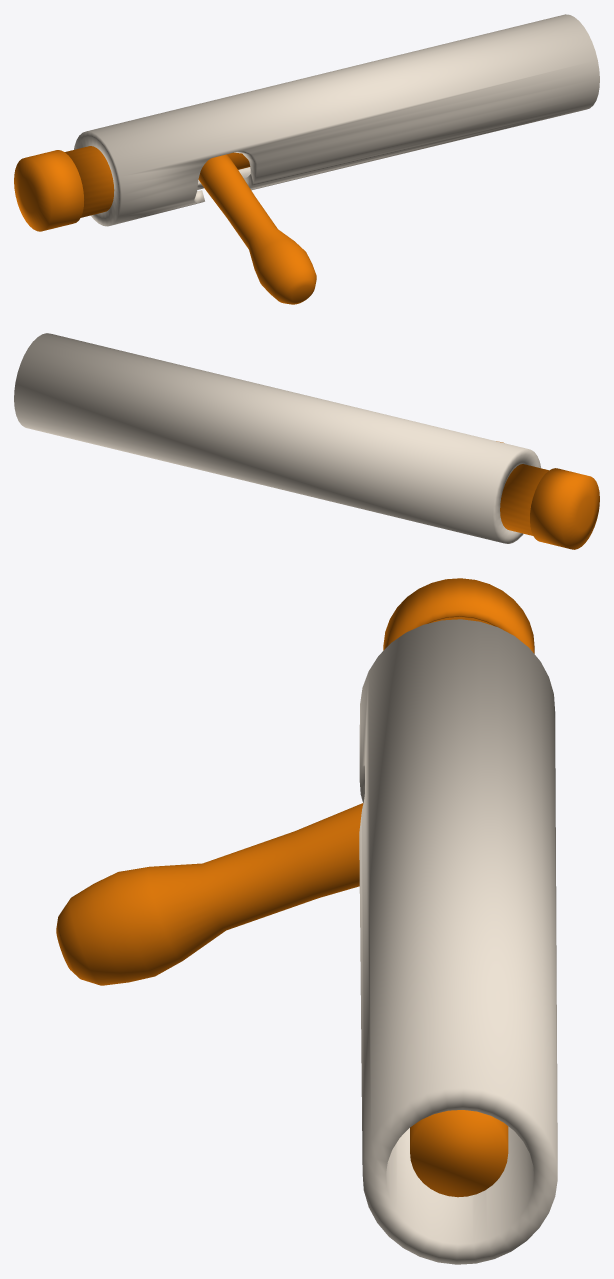
File: A99 Bolt.fbx
3 views of the same model, one above another, from view 1: azimuth 30°, elevation 25°; view 2: azimuth 150°, elevation 25°; view 3: azimuth 270°, elevation 25° (orthographic). The views are drawn at different scales.
Visible parts, largest first — view 1: Bolt; view 2: Bolt; view 3: Bolt.
Boxes of the visible parts, x1,y1,x2,y2 form: Bolt: (14, 14, 599, 304); Bolt: (14, 333, 599, 549); Bolt: (56, 578, 557, 1264).
Size of the model in its own units: 26.98 by 6.08 by 10.7.
